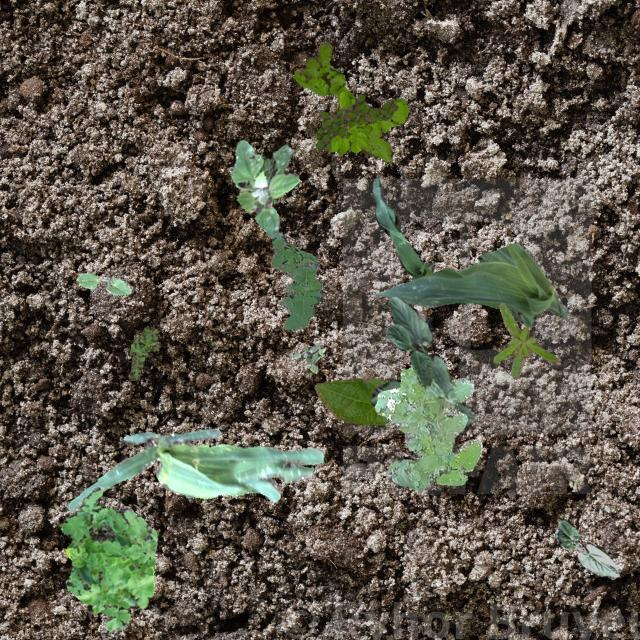crop: (68, 428, 322, 512), (376, 242, 568, 326), (371, 178, 473, 306), (384, 296, 456, 404), (370, 378, 476, 424), (554, 518, 618, 578), (314, 378, 388, 423), (75, 272, 132, 294)
weed: (292, 40, 408, 162), (60, 486, 156, 630), (374, 366, 481, 490), (228, 138, 298, 238), (270, 230, 320, 330), (492, 302, 556, 378), (314, 92, 396, 150), (128, 324, 158, 378), (294, 342, 324, 372)
